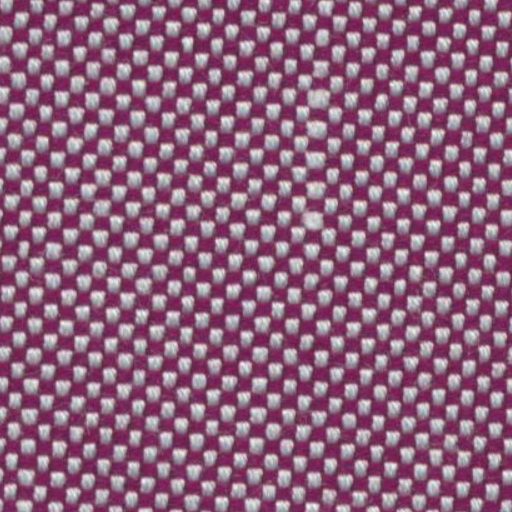TuoSha: (294, 18, 344, 366)
